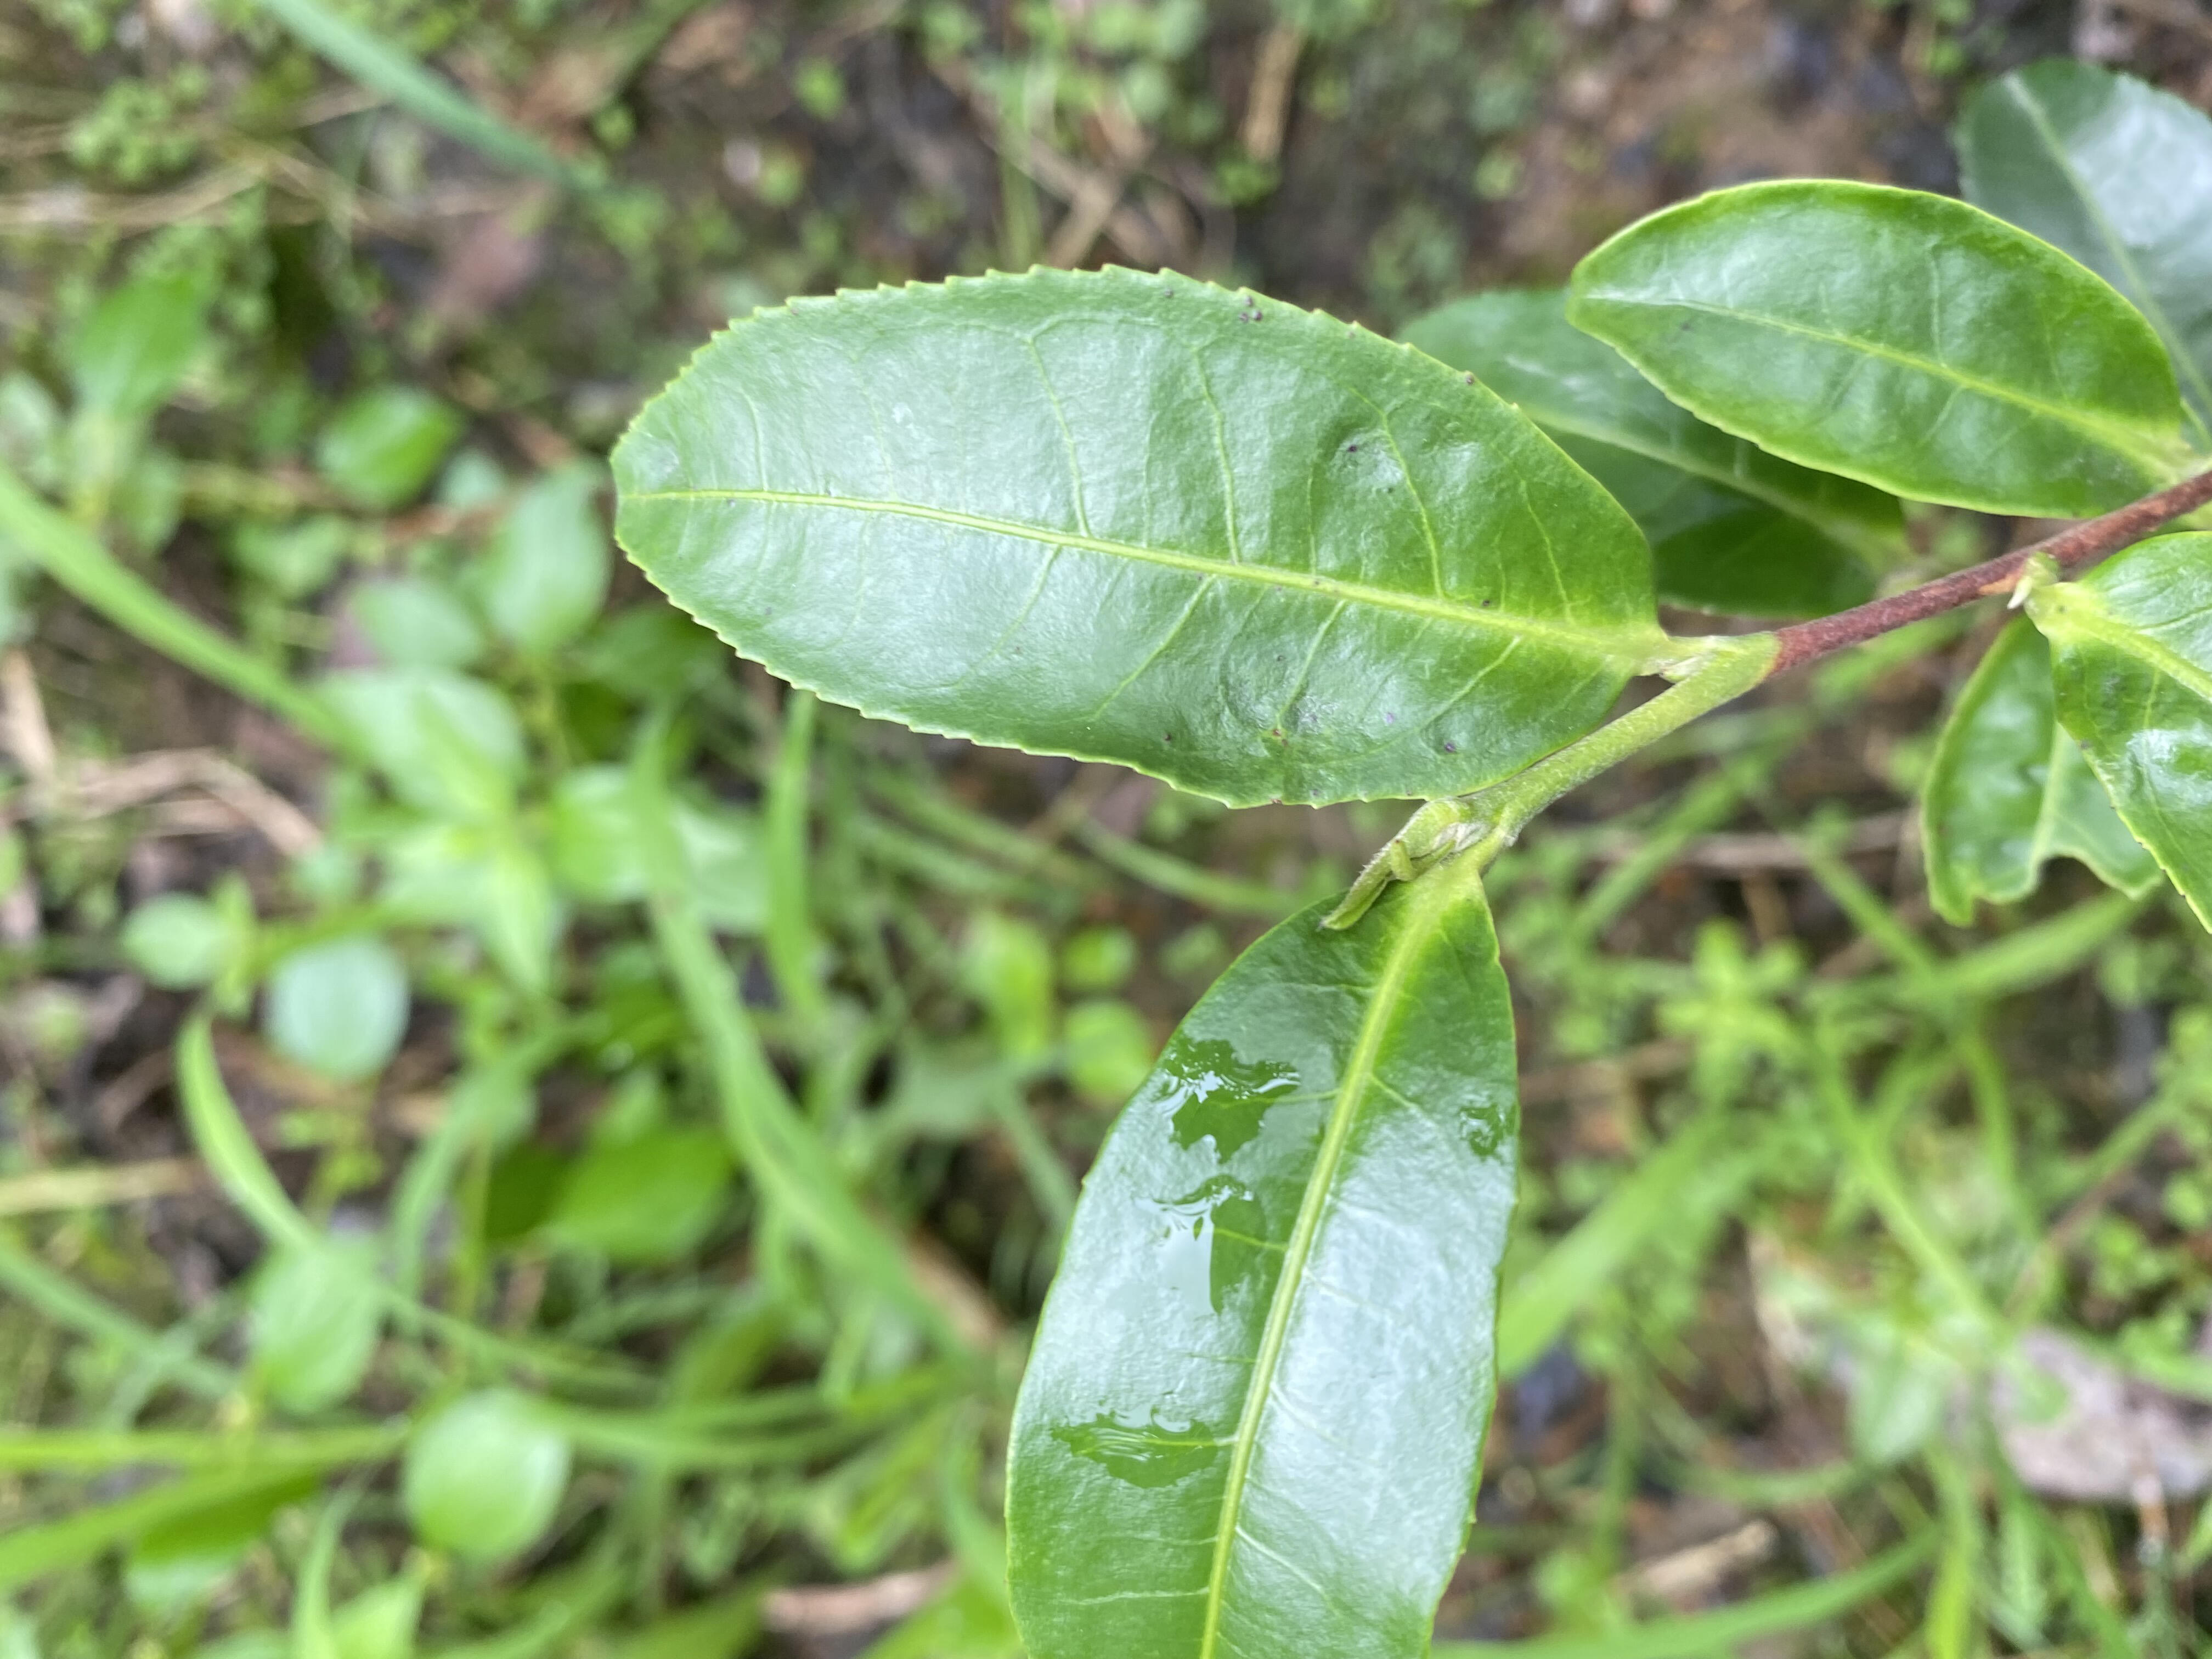chihuo_high: (1918, 610, 2168, 929)
healthy: (604, 263, 1653, 816), (1000, 864, 1533, 1657), (1562, 173, 2189, 525)
